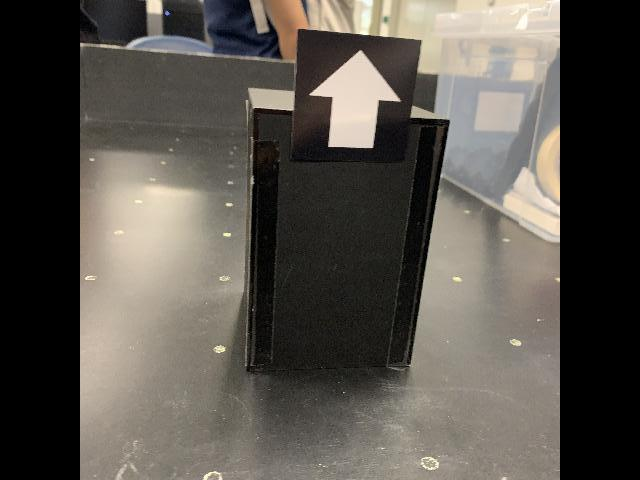up_arrow: (289, 28, 424, 165)
